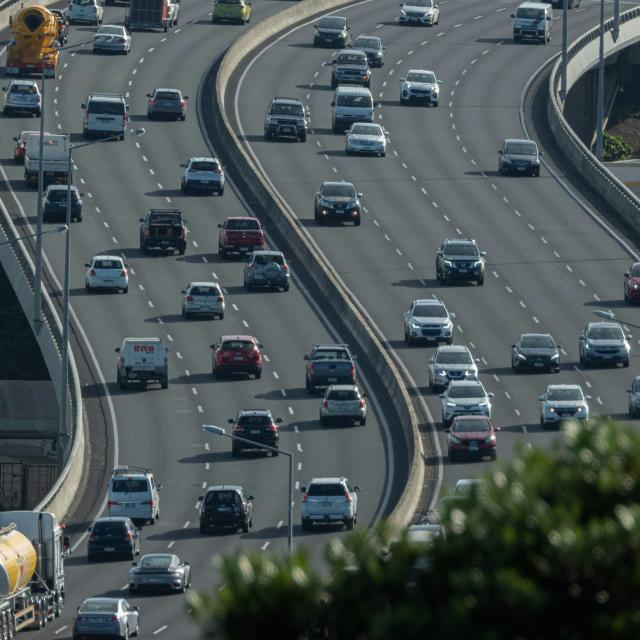16-Wheelers: (0, 510, 70, 639)
Car: (72, 597, 140, 640), (303, 343, 357, 395), (198, 485, 254, 534), (438, 379, 494, 427), (128, 553, 191, 594), (228, 408, 279, 458), (578, 320, 631, 368), (403, 298, 455, 346), (444, 415, 498, 461), (87, 516, 141, 561), (428, 344, 478, 392), (210, 334, 262, 380), (436, 238, 486, 285), (139, 208, 188, 255), (538, 384, 589, 428), (314, 181, 362, 226), (330, 84, 374, 133), (264, 97, 310, 142), (511, 333, 562, 373), (319, 384, 367, 426), (217, 216, 265, 258), (243, 250, 290, 292), (84, 254, 129, 294), (180, 156, 224, 196), (181, 281, 225, 320), (498, 138, 541, 177), (42, 184, 83, 223), (399, 69, 441, 106), (331, 49, 371, 87), (344, 122, 387, 157), (3, 80, 42, 118), (146, 88, 188, 121), (313, 15, 352, 48), (12, 130, 50, 163), (92, 24, 132, 54), (351, 35, 386, 67), (399, 0, 440, 26), (211, 0, 253, 24), (64, 0, 104, 25), (49, 9, 69, 45), (623, 262, 640, 303), (626, 376, 640, 418)
Truck: (115, 336, 169, 390), (124, 0, 180, 32)
